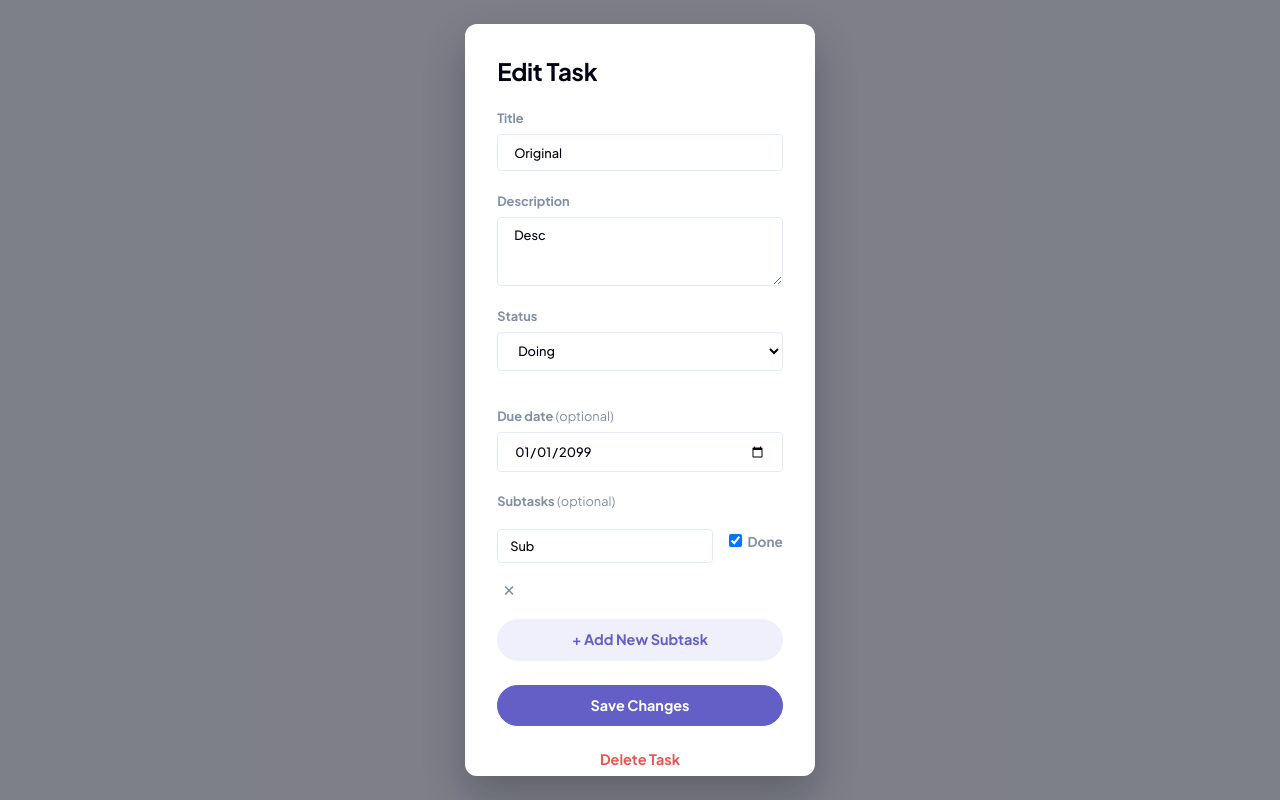
Test: EditTaskComponent (TaskService mocked) › delete › shows the error and stays when the delete fails
Click the button "Delete Task": (640, 759) top-left (497, 738), bottom-right (783, 780)
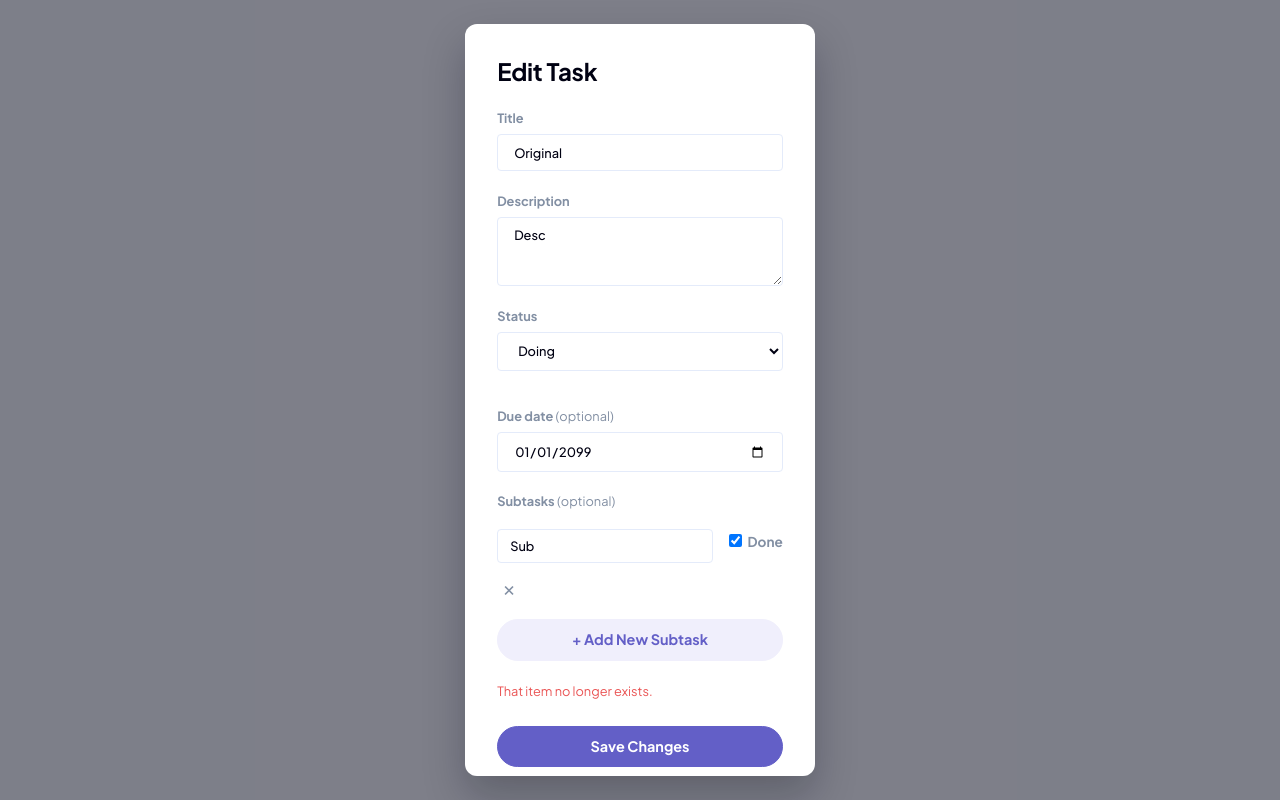
Expected: the message with class "field-error" shows "no longer exists", top-left (497, 683), bottom-right (653, 699)
